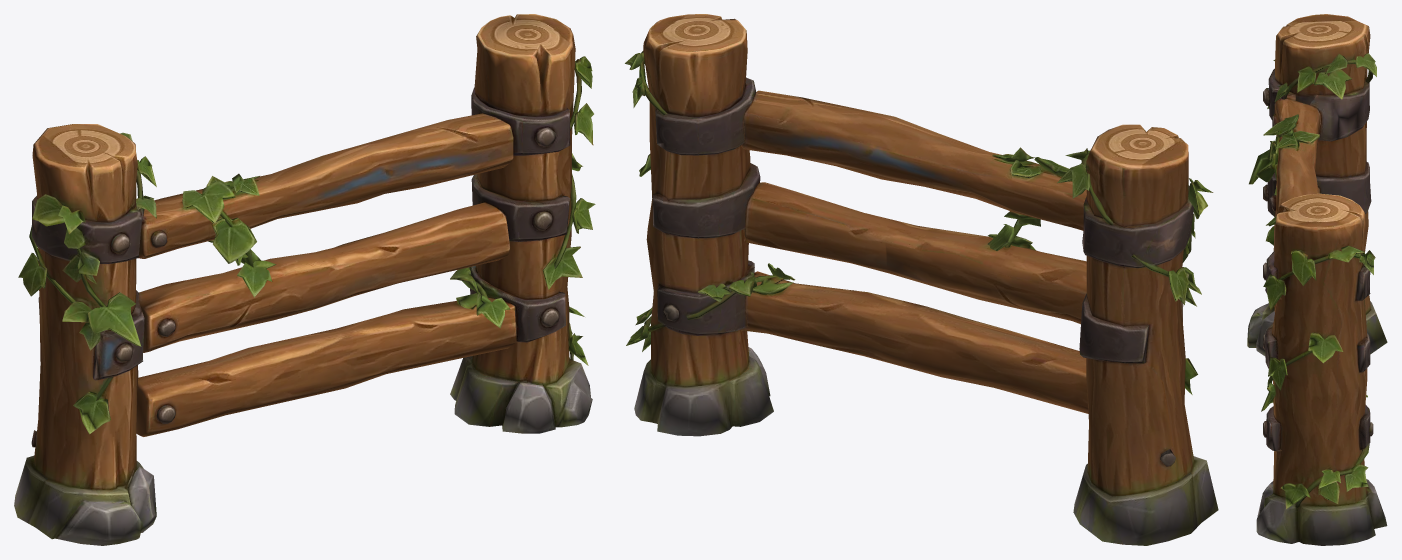
File: enclos_barriere.glb
3 views of the same model, side by side, from view 1: azimuth 30°, elevation 25°; view 2: azimuth 150°, elevation 25°; view 3: azimuth 270°, elevation 25° (orthographic). The views are drawn at different scales.
Bounding box in the file's own units: 0.9536 × 0.5986 × 0.2397.
1 material, 1 textured.
